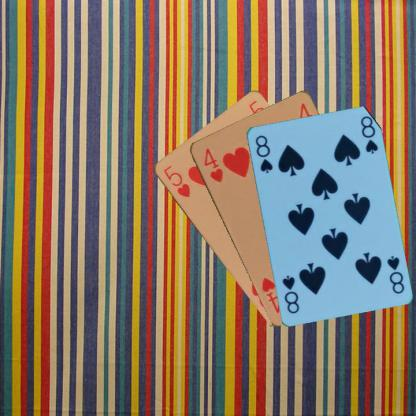4h: (201, 145, 224, 184)
5h: (161, 163, 191, 199)
8s: (384, 252, 406, 296), (252, 132, 274, 174)
